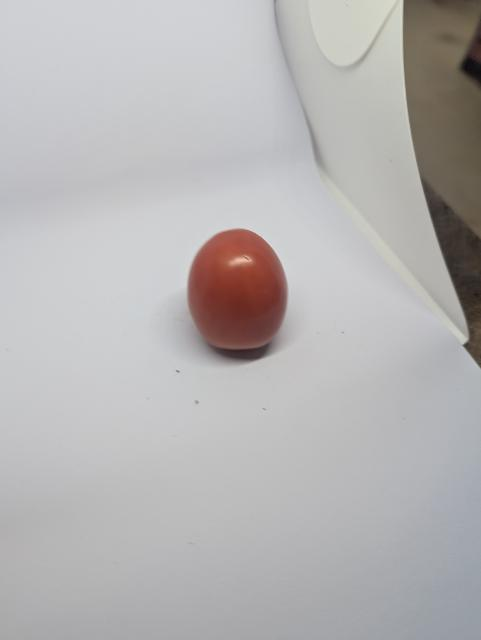red: (185, 226, 291, 359)
